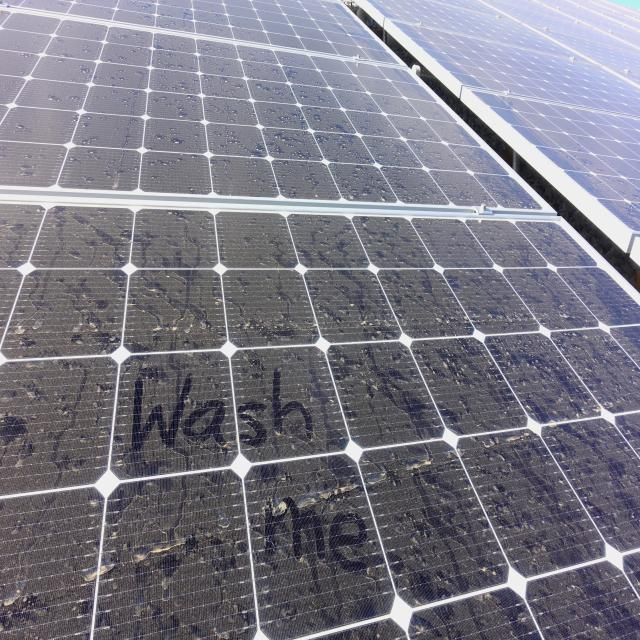dust-solar-panel: (0, 5, 640, 640)
